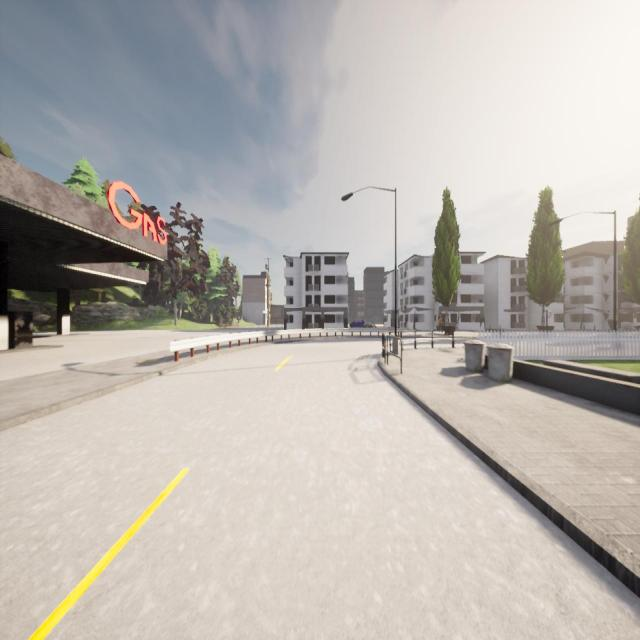Pedestrian: (437, 315, 443, 331)
Vehicle: (350, 319, 364, 328), (365, 323, 376, 328)
